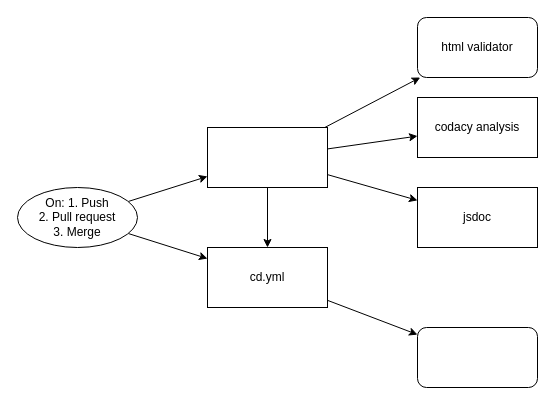
The diagram is 555 pixels wide and 405 high, and some of its shapes have lost their labels. Each missing label, with the centre of its shape:
ci.yml: the point at 267,157
codeql(javascript): the point at 477,357
